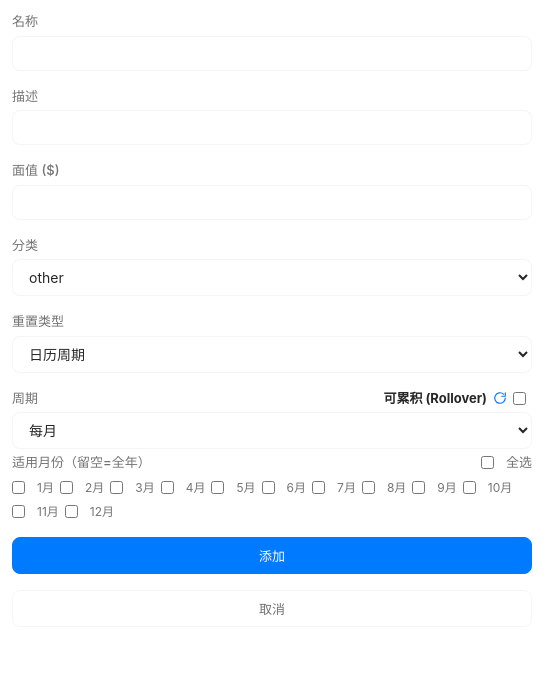
Test case: BenefitEditor › shows max years input when rollover is checked
Click the checkbox with test id "rollover-input": (520, 398) [513,392,526,405]
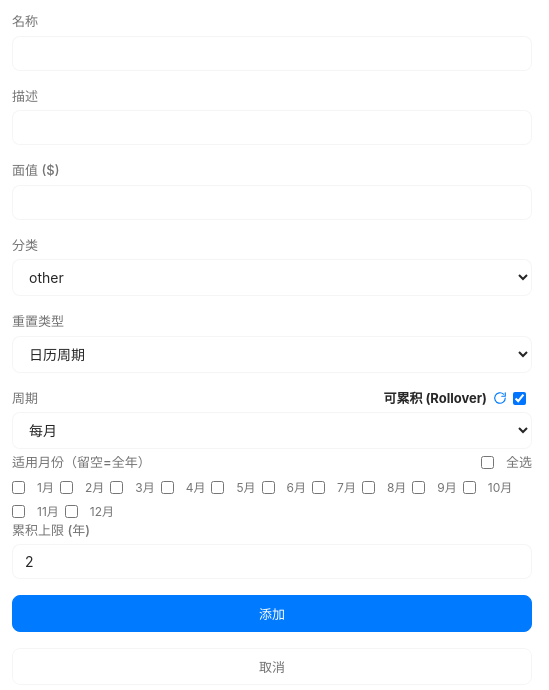
Expected: the number field with test id "rollover-max-years-input" is shown, [12,544,532,579]
